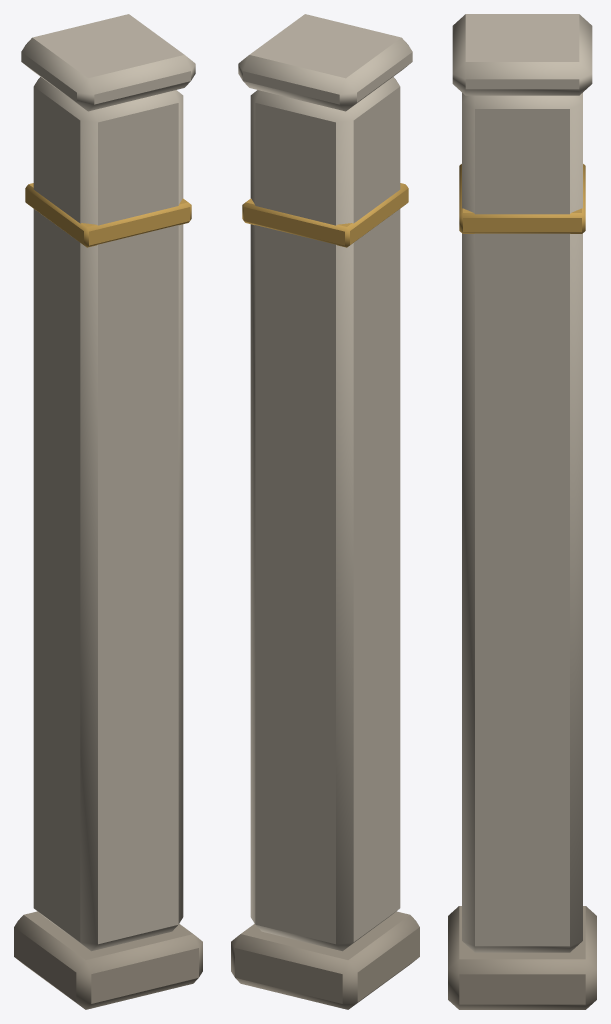
The model's file is railing_post.glb.
3 renders of one model, left to right at view 1: azimuth 30°, elevation 25°; view 2: azimuth 150°, elevation 25°; view 3: azimuth 270°, elevation 25°, orthographic.
Visible parts, largest first — view 1: body; view 2: body; view 3: body.
Boxes of the visible parts, left/top/right/bottom form: body: left=14, top=14, right=202, bottom=1009; body: left=231, top=14, right=419, bottom=1009; body: left=448, top=14, right=596, bottom=1009.
Size of the model in its own units: 0.16 by 1.12 by 0.16.
